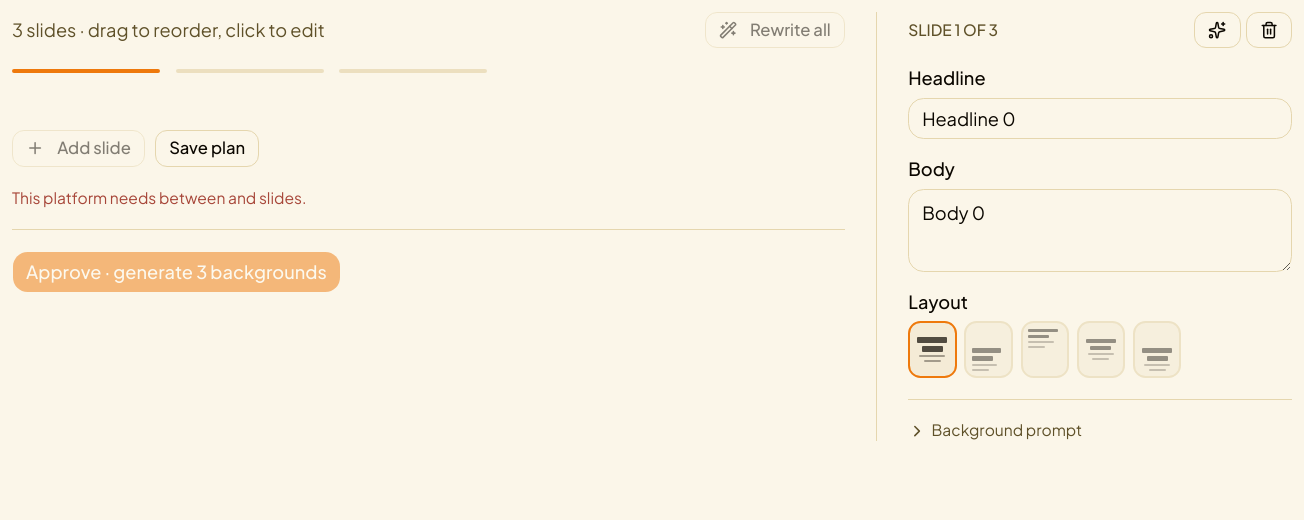
ScenarioEditor › falls back to the first slide when the selected one is deleted
Click the 3rd button with test id "scenario-slide": click(413, 71) [339,69,487,73]
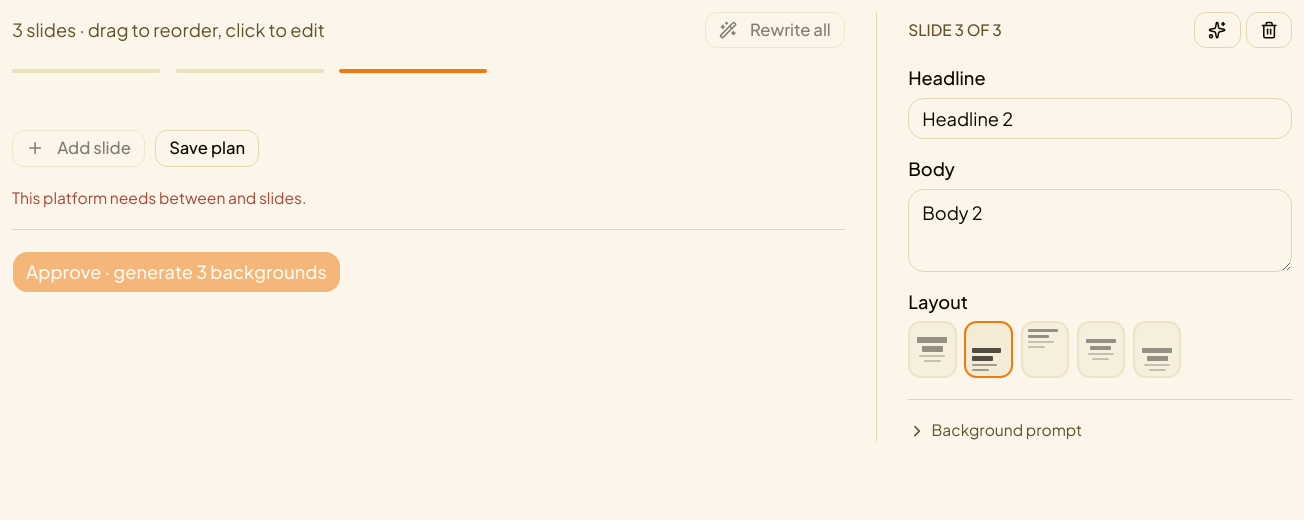
Check: the field labelled "Headline" holds "Headline 2", box [908,98,1292,139]
Click the button named "Delete slide": click(1269, 30) [1246,12,1292,48]
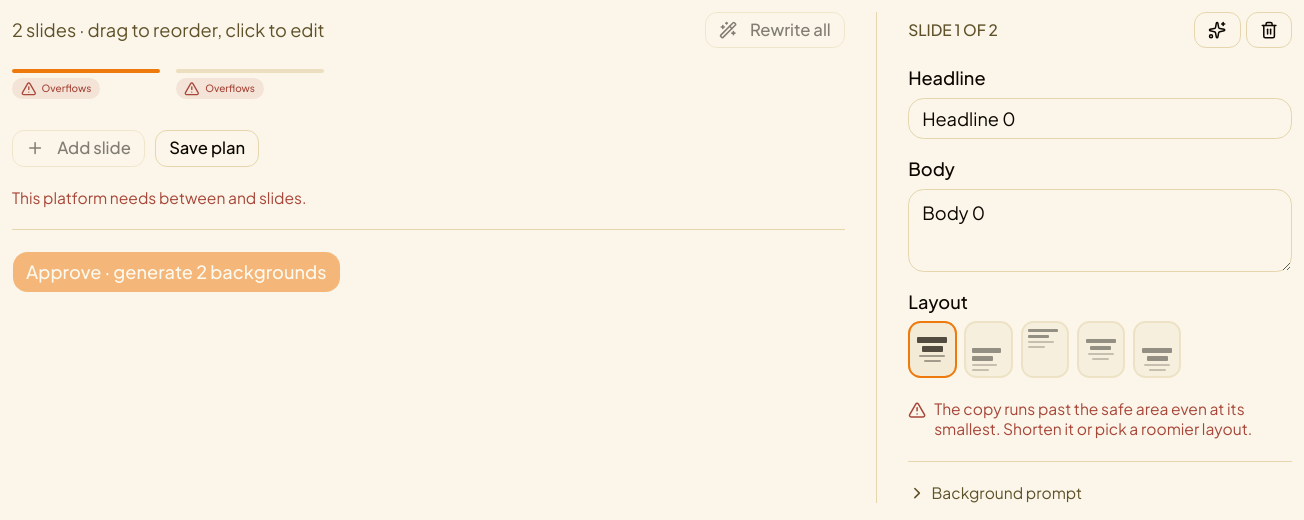
Check: the number of buttons with test id "scenario-slide" is 2, box [12,69,160,73]; [176,69,324,73]
Check: the field labelled "Headline" holds "Headline 0", box [908,98,1292,139]
